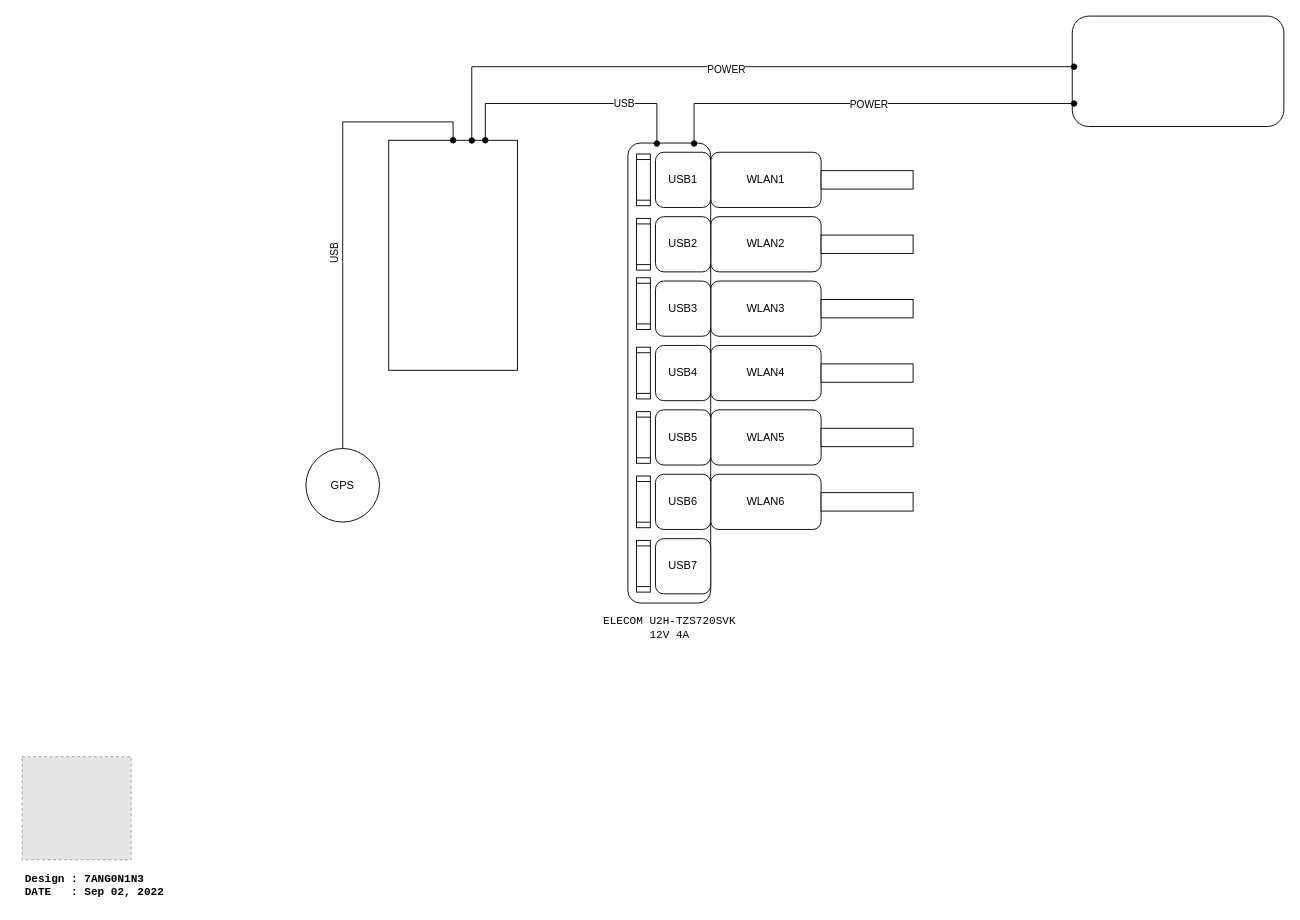
Image size: 1300x920. Some labels were removed from this diagram. Grey dashed boxes stand in for pictures. Each missing label, with the centre of its shape:
"BATTERY" goes at [1177,70].
"RASPBERRY PI" goes at [453,254].
